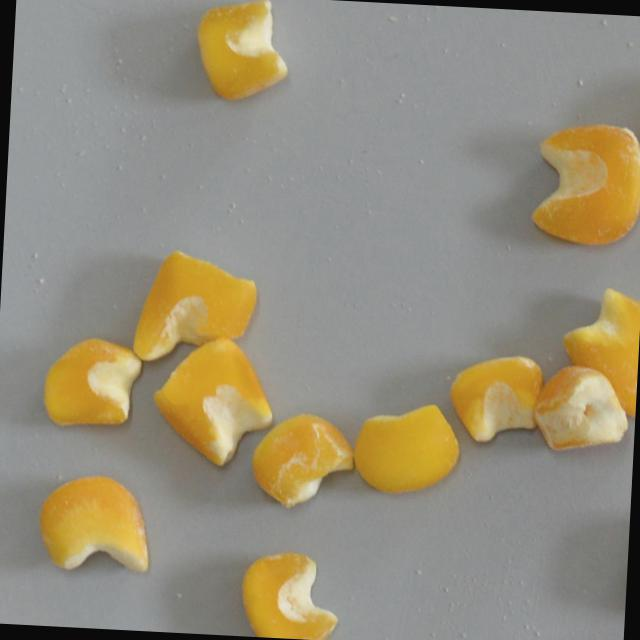agrietado: (147, 332, 277, 469)
no_canjicado: (33, 469, 154, 576), (352, 399, 465, 500), (191, 0, 292, 105), (40, 332, 145, 431), (446, 351, 545, 447), (575, 285, 640, 420)
no_desgerminado: (138, 255, 252, 381), (237, 549, 344, 640)
pelicula: (529, 118, 640, 249), (247, 408, 361, 512), (531, 362, 630, 456)
